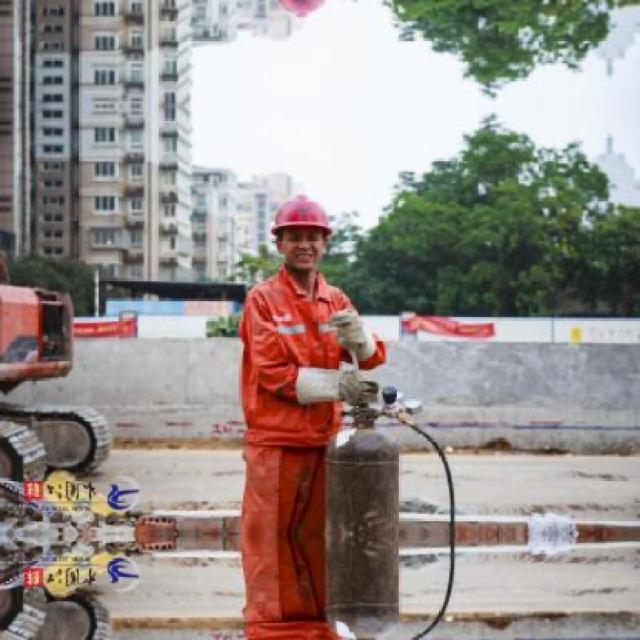helmet: (268, 187, 334, 276), (268, 0, 335, 25)
